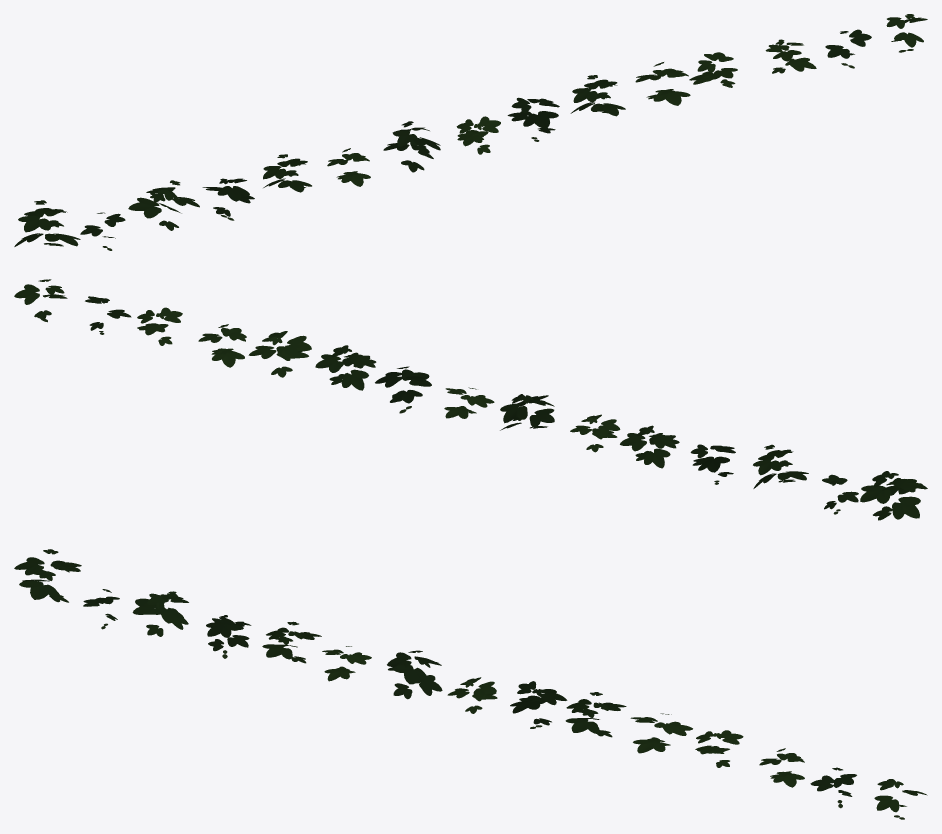
File: ROW_14_SEG2_foliage.dae
The picture shows the model from 3 angles, top to bottom: view 1: azimuth 30°, elevation 25°; view 2: azimuth 150°, elevation 25°; view 3: azimuth 330°, elevation 25°; orthographic projection.
Parts seen in each view (by area): view 1: ROW_14_SEG2_foliage; view 2: ROW_14_SEG2_foliage; view 3: ROW_14_SEG2_foliage.
Part boxes in pixels (<box>): ROW_14_SEG2_foliage: <box>14,14,927,250</box>; ROW_14_SEG2_foliage: <box>14,279,927,520</box>; ROW_14_SEG2_foliage: <box>14,549,927,819</box>.
Bounding box in the file's own units: 4.48 × 0.3505 × 0.2704.
